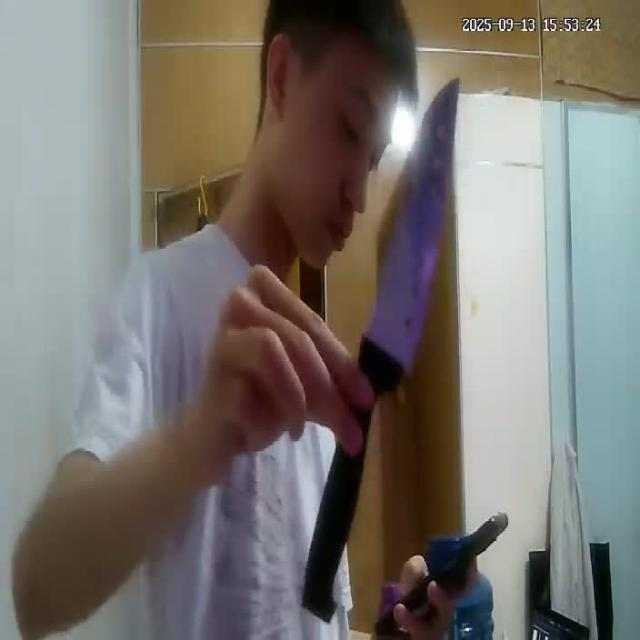senjata_tajam: (360, 74, 462, 369)
